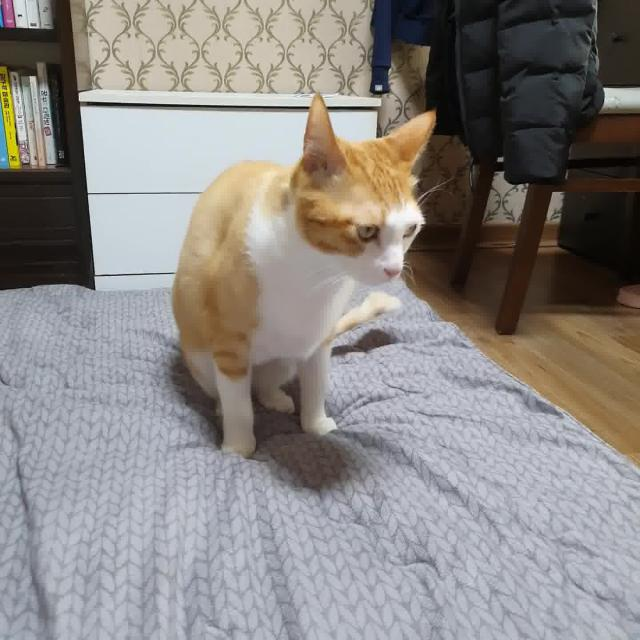cat: (132, 76, 478, 472)
